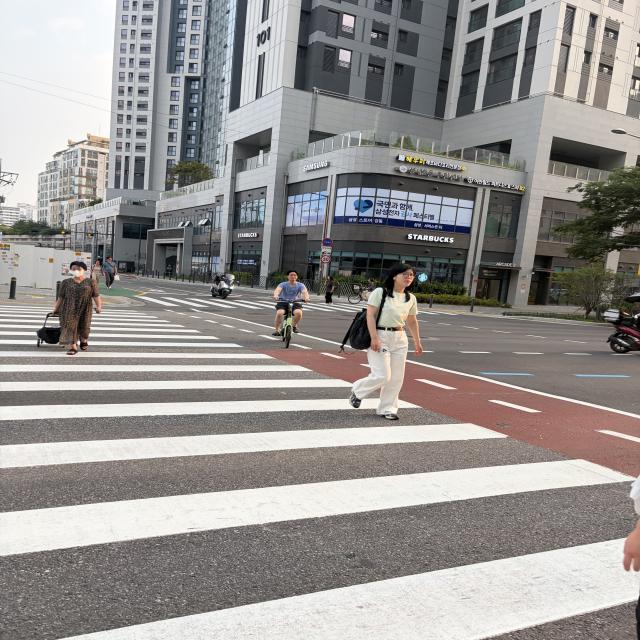bicycle: (257, 284, 325, 358)
motorcycle: (200, 269, 243, 302)
